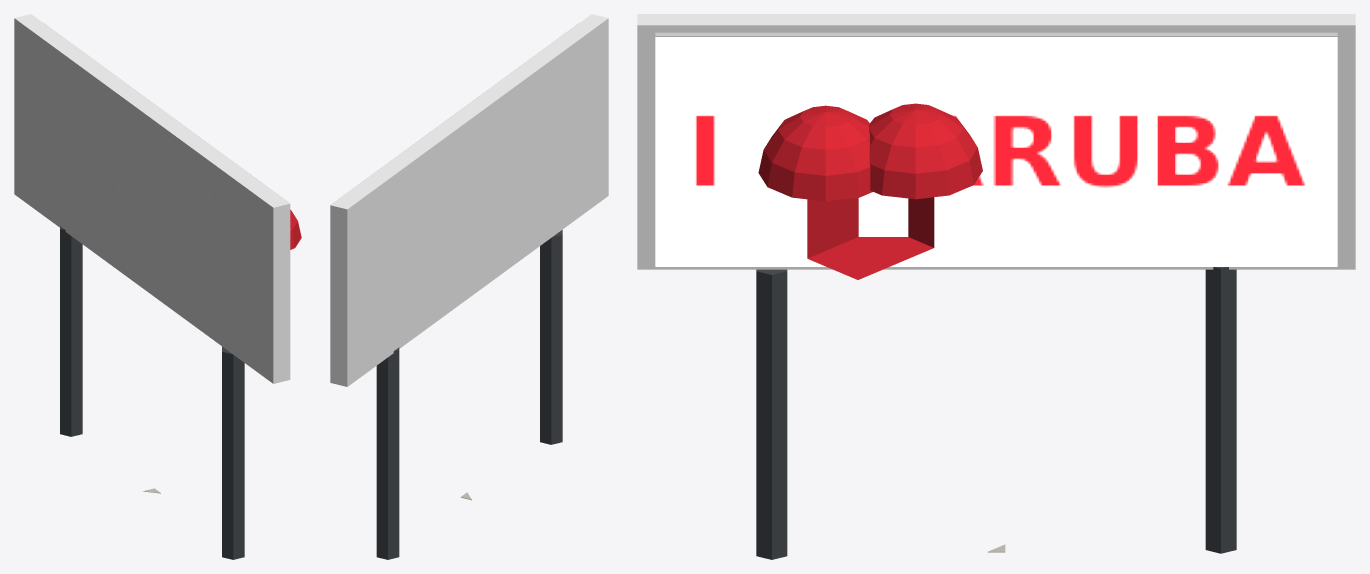
The model's file is ilove_billboard.glb.
The picture shows the model from 3 angles, left to right: view 1: azimuth 30°, elevation 25°; view 2: azimuth 150°, elevation 25°; view 3: azimuth 270°, elevation 25°; orthographic projection. The views are drawn at different scales.
Parts seen in each view (by area): view 1: ilove_billboard_lod0; view 2: ilove_billboard_lod0; view 3: ilove_billboard_lod0.
Boxes of the visible parts, x1,y1,x2,y2 form: ilove_billboard_lod0: (14,14,301,559); ilove_billboard_lod0: (330,14,608,559); ilove_billboard_lod0: (637,14,1355,559).
Size of what is drawn, in the model's own units: 1.65 by 6.54 by 8.
7 materials, 1 textured.
